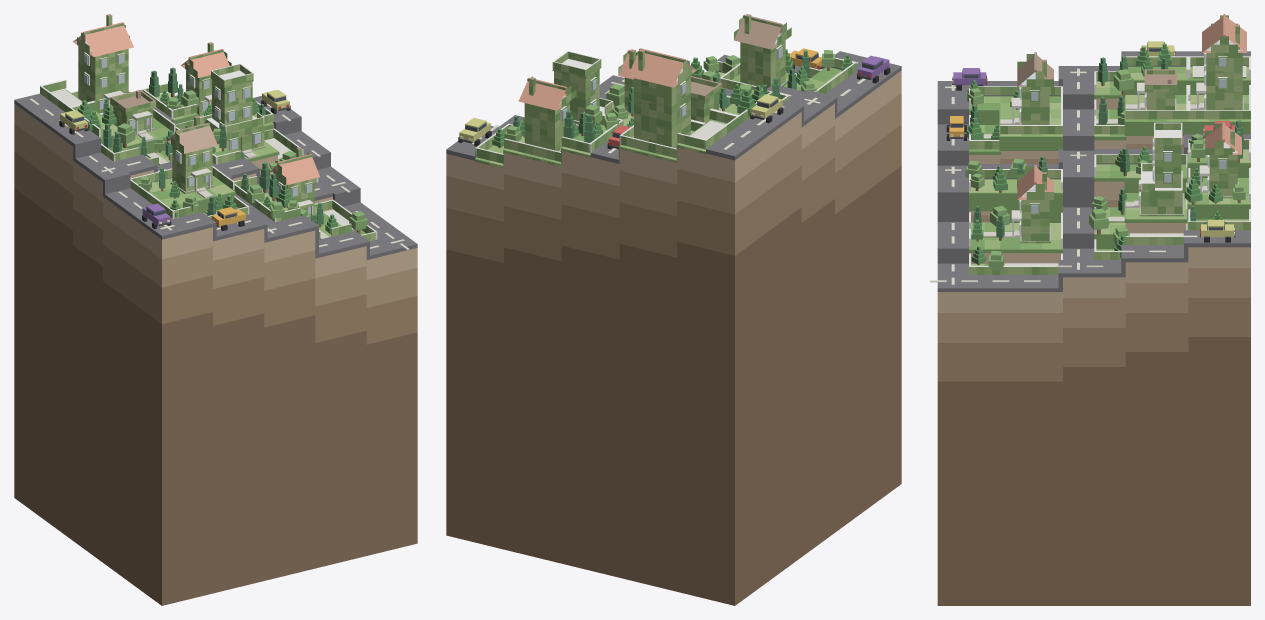
The model's file is block_4_greenfacade_0.glb.
3 views of the same model, side by side, from view 1: azimuth 30°, elevation 25°; view 2: azimuth 150°, elevation 25°; view 3: azimuth 270°, elevation 25° (orthographic). The views are drawn at different scales.
Parts seen in each view (by area): view 1: Patch_UpperLeft_b03_GF, Bungalows_UpperLeft_b03_GF, Roads_UpperLeft_b03_GF, LawnSkirt_UpperLeft_b03_GF, RoadMarks_UpperLeft_b03_GF, ULCar_003_GF; view 2: Patch_UpperLeft_b03_GF, Bungalows_UpperLeft_b03_GF, Roads_UpperLeft_b03_GF, ULCar_014_GF, ULCar_010_GF, ULCar_015_GF; view 3: Patch_UpperLeft_b03_GF, Bungalows_UpperLeft_b03_GF, Roads_UpperLeft_b03_GF, LawnSkirt_UpperLeft_b03_GF, RoadMarks_UpperLeft_b03_GF, ULCar_010_GF, ULCar_015_GF, ULCar_003_GF.
Boxes of the visible parts, x1,y1,x2,y2 form: Patch_UpperLeft_b03_GF: (14,104,417,605); Bungalows_UpperLeft_b03_GF: (40,14,377,241); Roads_UpperLeft_b03_GF: (14,93,417,259); LawnSkirt_UpperLeft_b03_GF: (66,89,340,225); RoadMarks_UpperLeft_b03_GF: (29,98,409,249); ULCar_003_GF: (211,207,246,230); Patch_UpperLeft_b03_GF: (446,70,901,605); Bungalows_UpperLeft_b03_GF: (475,14,856,168); Roads_UpperLeft_b03_GF: (446,51,901,163); ULCar_014_GF: (750,94,783,123); ULCar_010_GF: (458,118,491,146); ULCar_015_GF: (857,55,890,83); Patch_UpperLeft_b03_GF: (937,82,1250,605); Bungalows_UpperLeft_b03_GF: (969,14,1250,274); Roads_UpperLeft_b03_GF: (937,51,1250,291); LawnSkirt_UpperLeft_b03_GF: (969,79,1250,252); RoadMarks_UpperLeft_b03_GF: (930,68,1197,284); ULCar_010_GF: (1200,220,1235,242); ULCar_015_GF: (952,68,987,90); ULCar_003_GF: (946,116,966,140).
Bounding box in the file's own units: 9.5 × 16.52 × 9.72.
